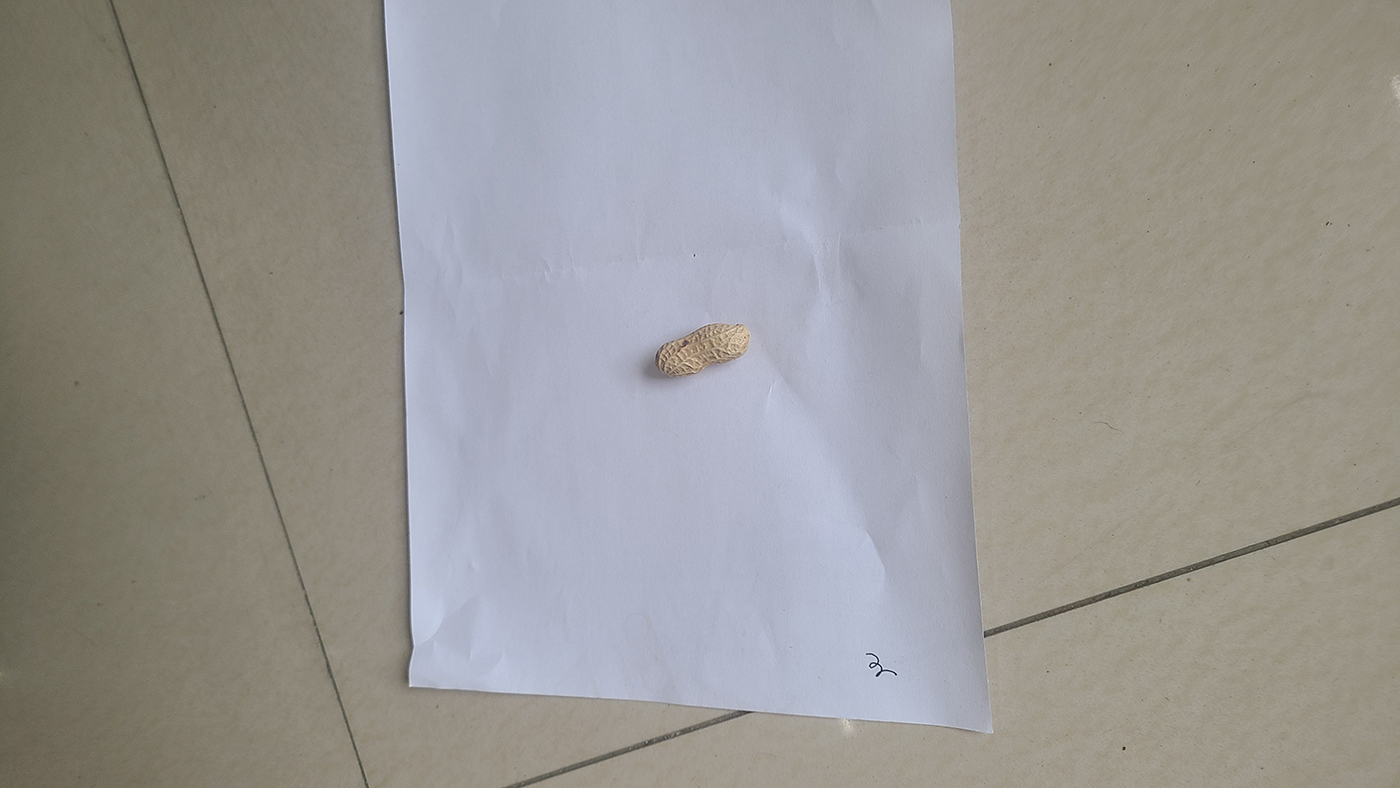h: (655, 323, 748, 376)
